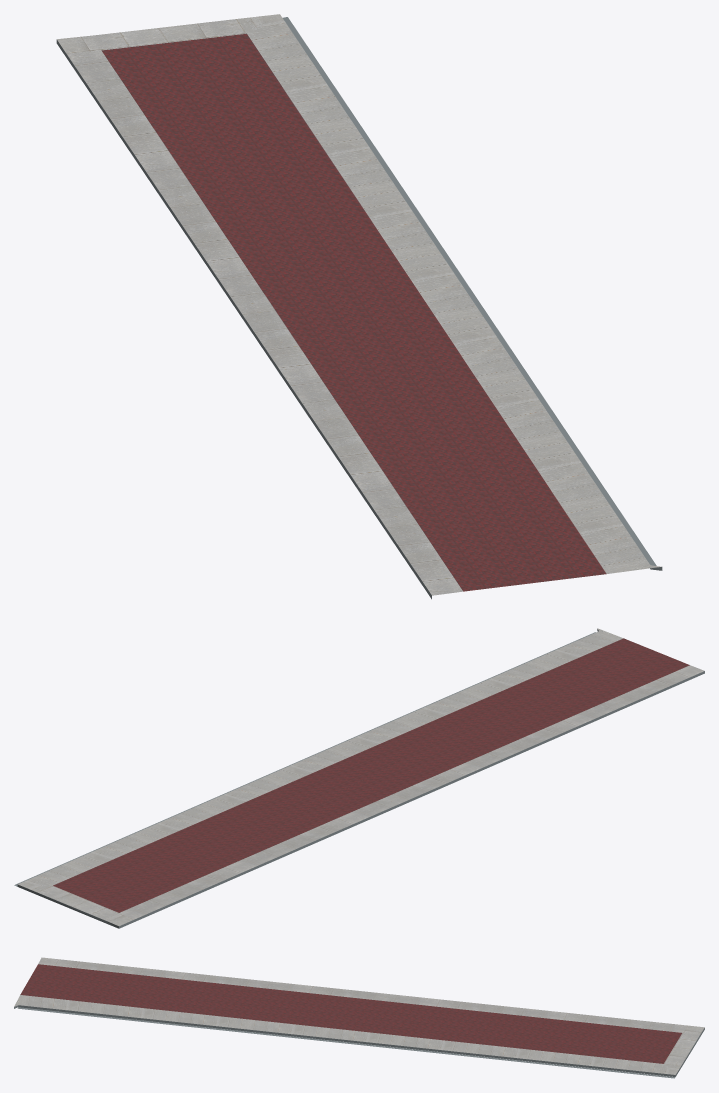
Rendered from espe_base2.glb.
The picture shows the model from 3 angles, top to bottom: view 1: azimuth 30°, elevation 25°; view 2: azimuth 150°, elevation 25°; view 3: azimuth 270°, elevation 25°; orthographic projection. The views are drawn at different scales.
Parts seen in each view (by area): view 1: piso base abajo; view 2: piso base abajo; view 3: piso base abajo.
Part boxes in pixels (box(x1,y1,x2,y2)): piso base abajo: box(56, 14, 662, 599); piso base abajo: box(14, 628, 704, 928); piso base abajo: box(14, 957, 704, 1078).
Bounding box in the file's own units: 215 × 2.12 × 527.
Materials: 3 (2 with a texture image).
